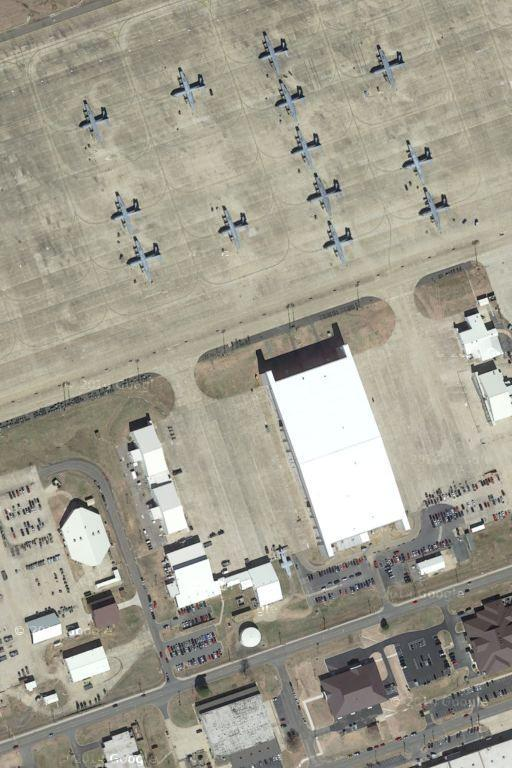C-130: (76, 99, 114, 146), (367, 44, 407, 88), (255, 29, 293, 74), (124, 234, 161, 280), (272, 77, 310, 121), (318, 218, 355, 263), (305, 170, 343, 213), (417, 182, 450, 231), (169, 64, 203, 111), (400, 139, 436, 183), (289, 125, 326, 166), (108, 190, 144, 232), (215, 204, 250, 247)
